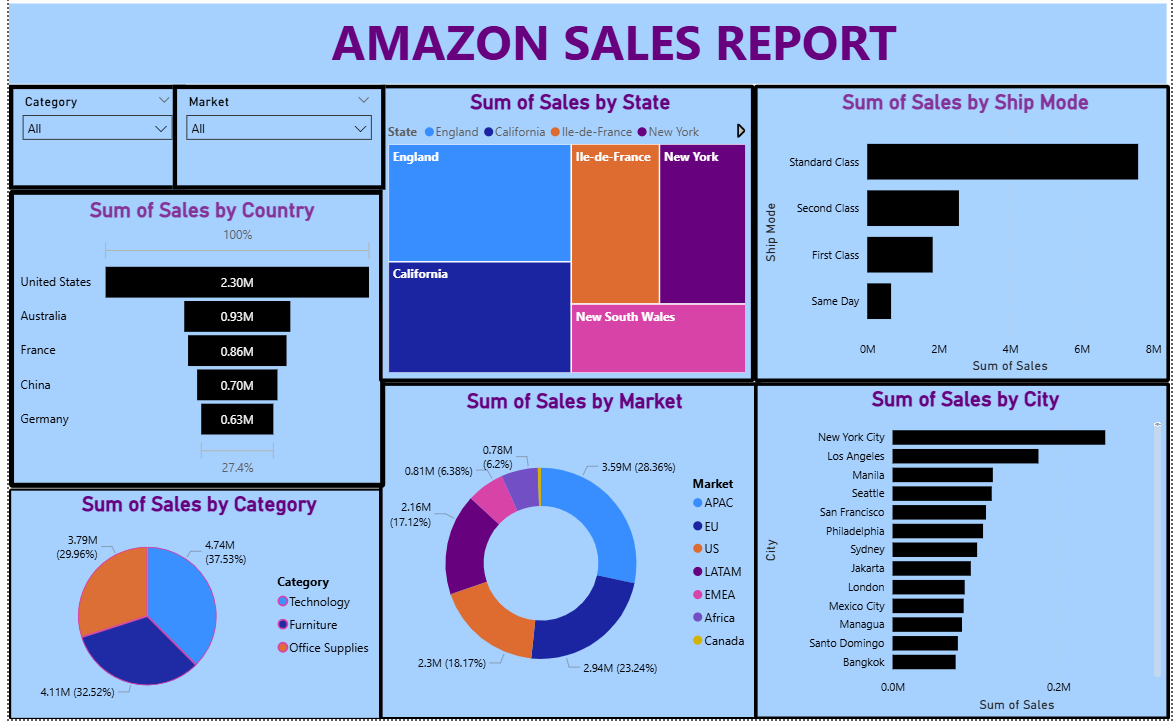

What the dashboard file says about the page in this screenshot:
{"tool":"powerbi","page":{"name":"Sales Details","canvas":[1284,800],"ordinal":0},"visuals":[{"type":"pieChart","fields":{"Category":["Orders.Category"],"Y":["Sum(Orders.Sales)"]},"box":[0,544.3,416.3,256.2],"z":0},{"type":"donutChart","fields":{"Category":["Orders.Market"],"Y":["Sum(Orders.Sales)"]},"box":[408.8,426.9,424.8,373.6],"z":1000},{"type":"barChart","fields":{"Y":["Sum(Orders.Sales)"],"Category":["Orders.Ship Mode"]},"box":[824,98.2,460,328.7],"z":2000},{"type":"clusteredBarChart","fields":{"Category":["Orders.City"],"Y":["Sum(Orders.Sales)"]},"box":[824,426.9,460,373.6],"z":3000},{"type":"funnel","fields":{"Category":["Orders.Country"],"Y":["Sum(Orders.Sales)"]},"box":[0,214.5,416.3,329.8],"z":4000},{"type":"treemap","fields":{"Group":["Orders.State"],"Values":["Sum(Orders.Sales)"]},"box":[408.8,98.2,415.2,328.7],"z":5000},{"type":"textbox","box":[0,8.2,1280.3,89.2],"z":7000},{"type":"slicer","fields":{"Values":["Orders.Category"]},"box":[0,98.2,195.3,116.3],"z":11000},{"type":"slicer","fields":{"Values":["Orders.Market"]},"box":[181.4,98.2,234.8,116.3],"z":12001}]}

Visuals, with their boxes in screenshot pixels (x1, y1, x2, y2), scaled from the page's 1284x800 canvas onto the 1173x721 screenshot:
pieChart - Orders.Category x Sum(Orders.Sales): 0:491:380:720
donutChart - Orders.Market x Sum(Orders.Sales): 373:385:762:720
barChart - Sum(Orders.Sales) x Orders.Ship Mode: 753:89:1172:385
clusteredBarChart - Orders.City x Sum(Orders.Sales): 753:385:1172:720
funnel - Orders.Country x Sum(Orders.Sales): 0:193:380:491
treemap - Orders.State x Sum(Orders.Sales): 373:89:753:385
textbox: 0:7:1170:88
slicer - Orders.Category: 0:89:178:193
slicer - Orders.Market: 166:89:380:193
